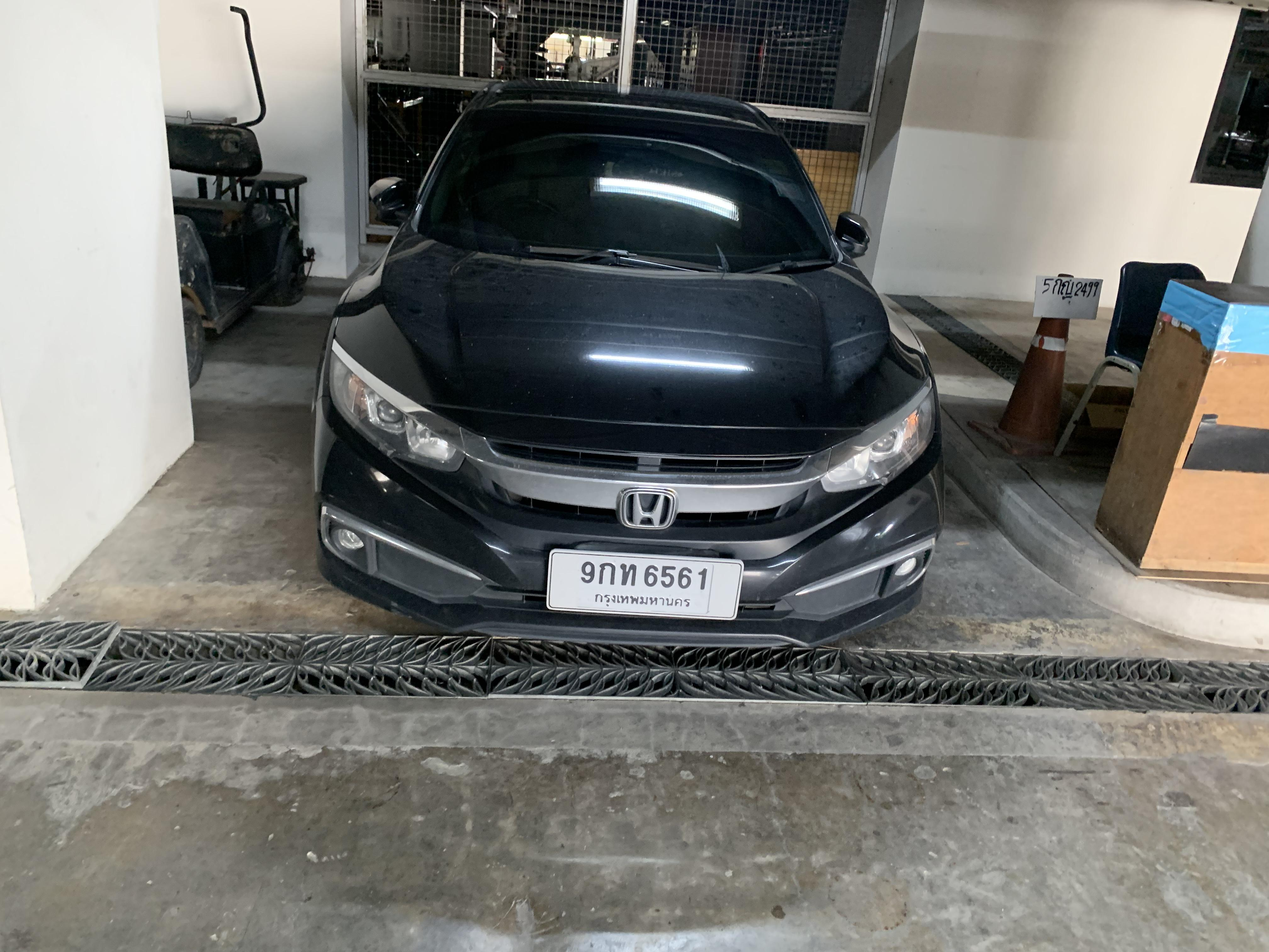license-plate: (547, 548, 744, 622)
